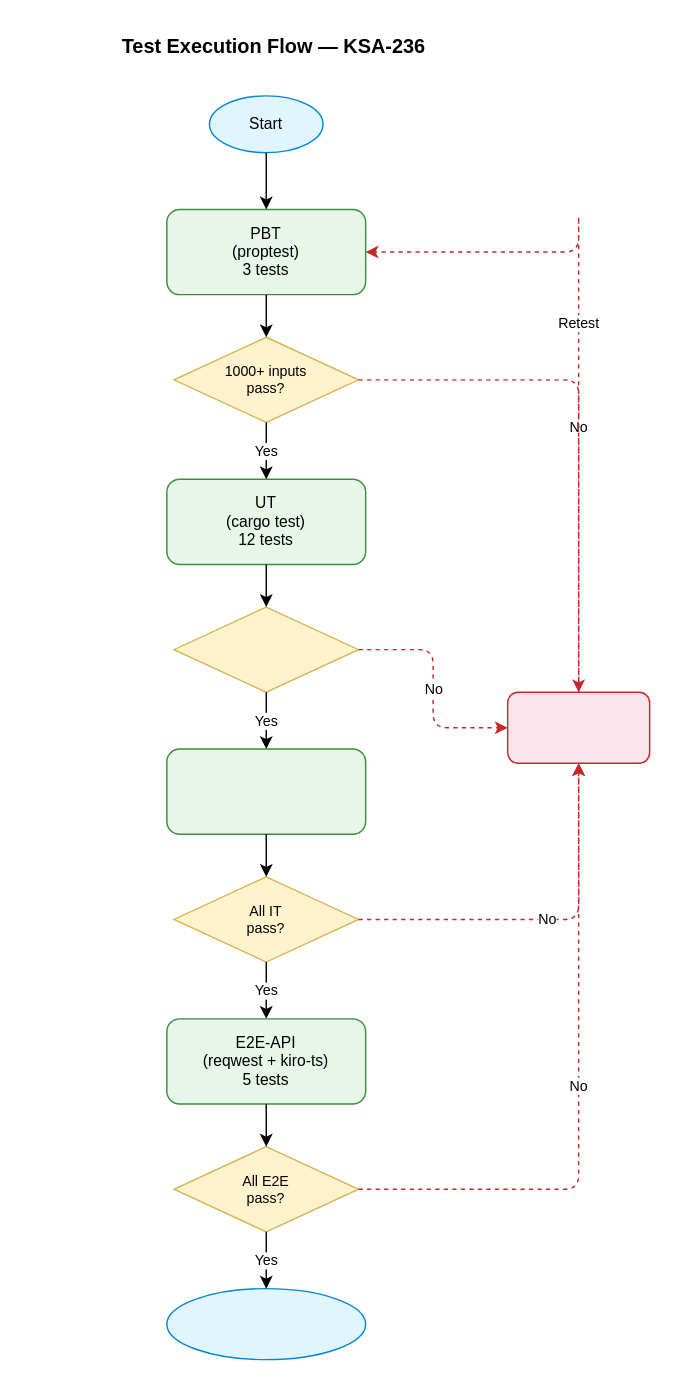
Image size: 675x1385. Some labels were removed from this diagram. The centre of each missing label's shape, as x and y in pixels:
All UT pass?: (266,649)
DONE All 28 tests pass: (265,1323)
Fix Code + Retest: (578,727)
IT (wiremock + tokio) 8 tests: (265,791)
